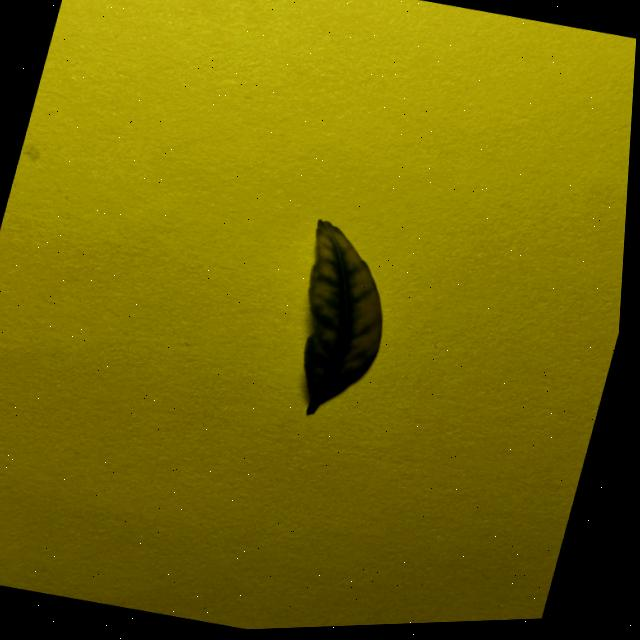greening: (303, 218, 381, 413)
